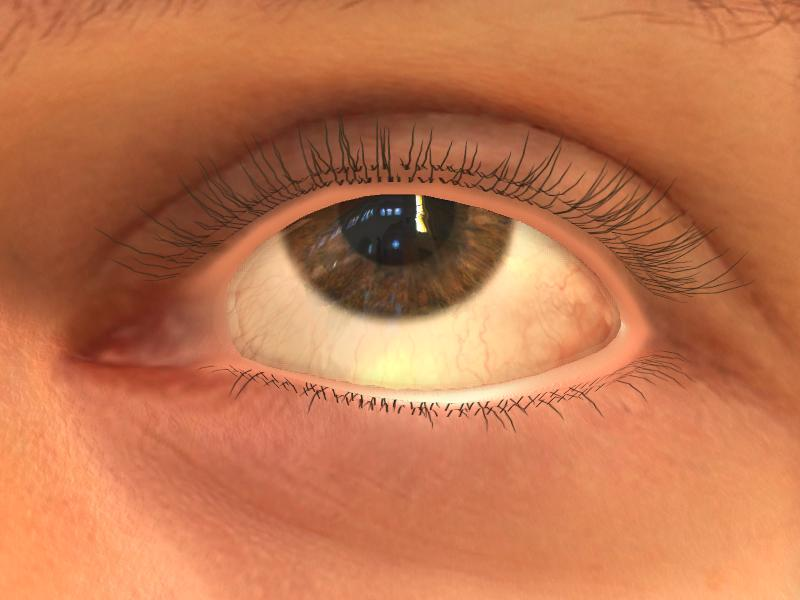eye: (281, 194, 517, 317)
